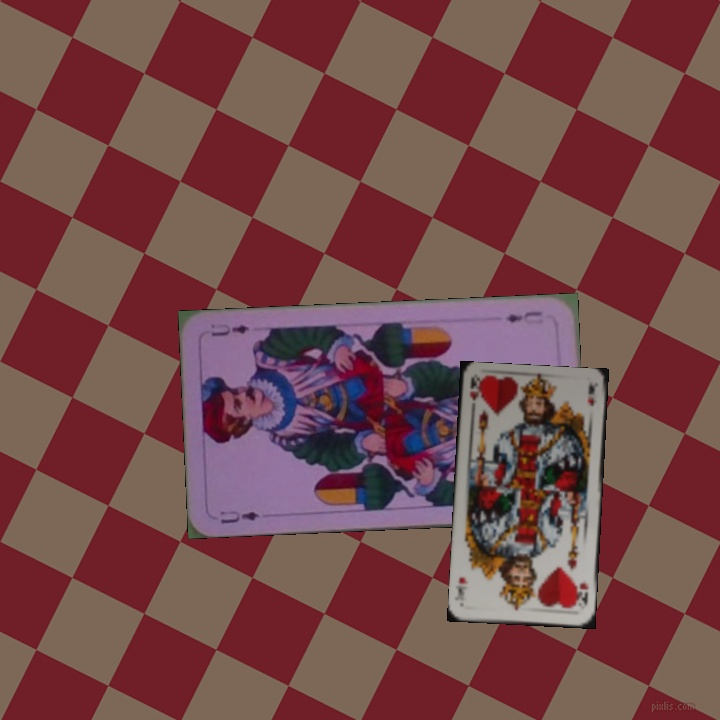EU: (217, 506, 263, 526), (501, 307, 547, 327)
HK: (466, 376, 482, 417), (572, 578, 591, 612)
